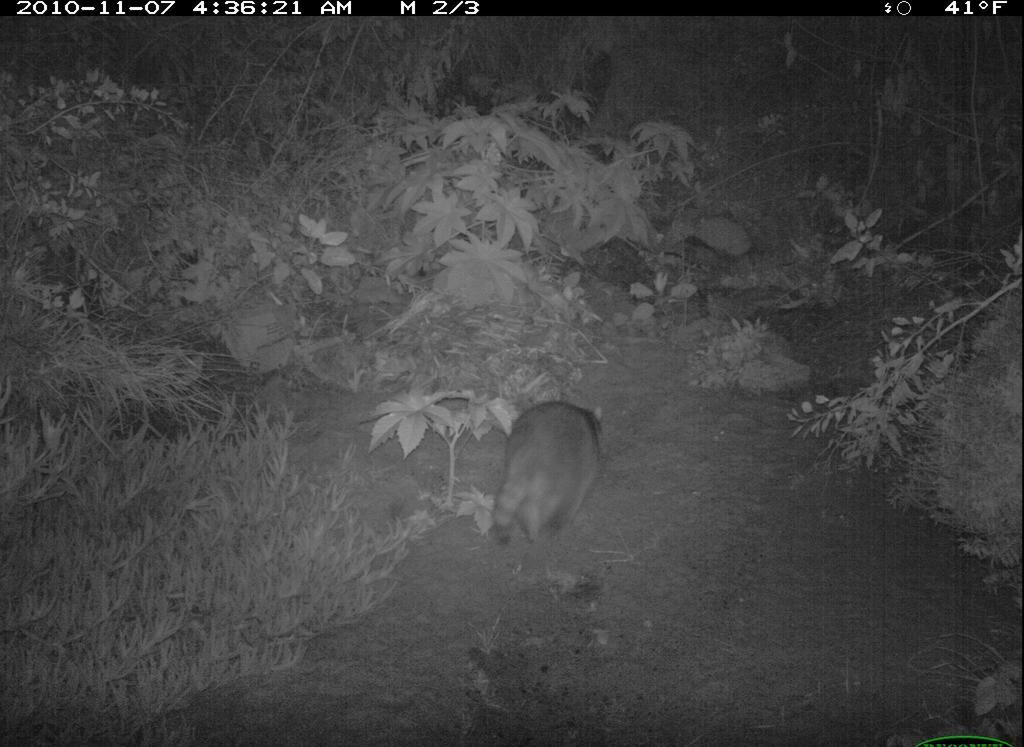raccoon: (486, 393, 623, 560)
